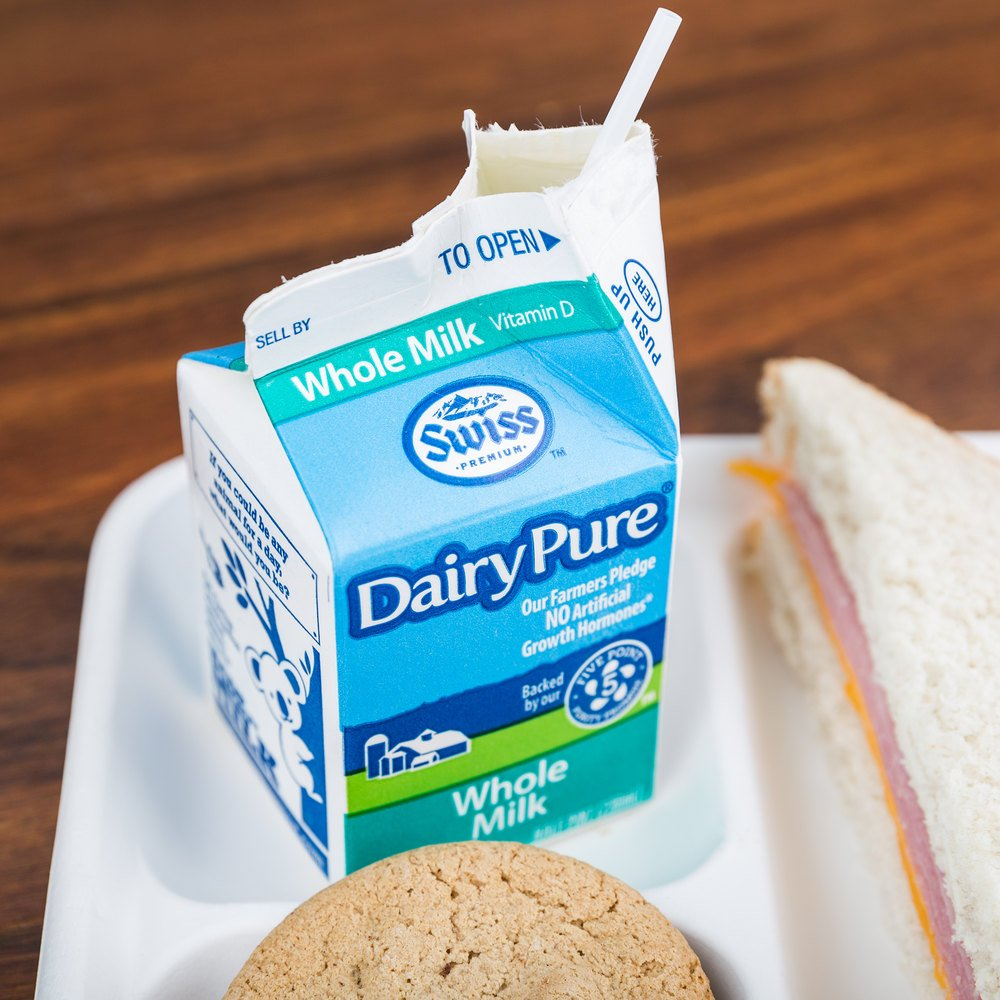Milk_Carton: (215, 111, 654, 839)
